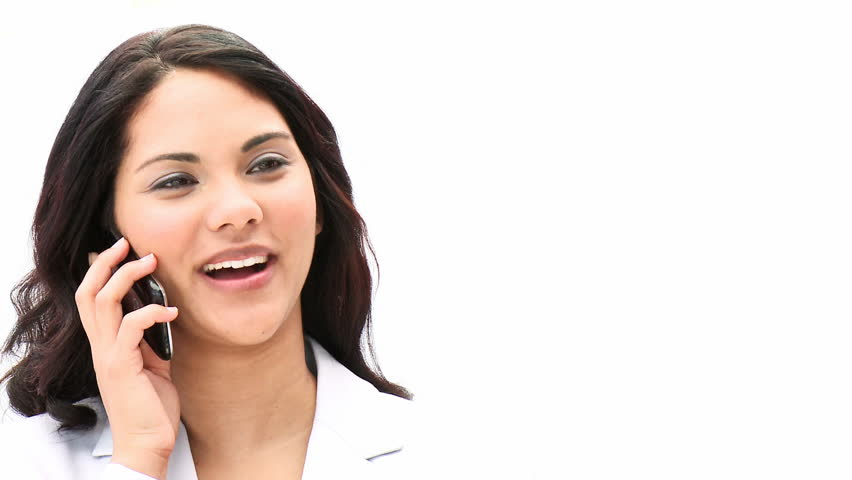phone: (72, 223, 190, 377)
talk: (72, 123, 310, 440)
